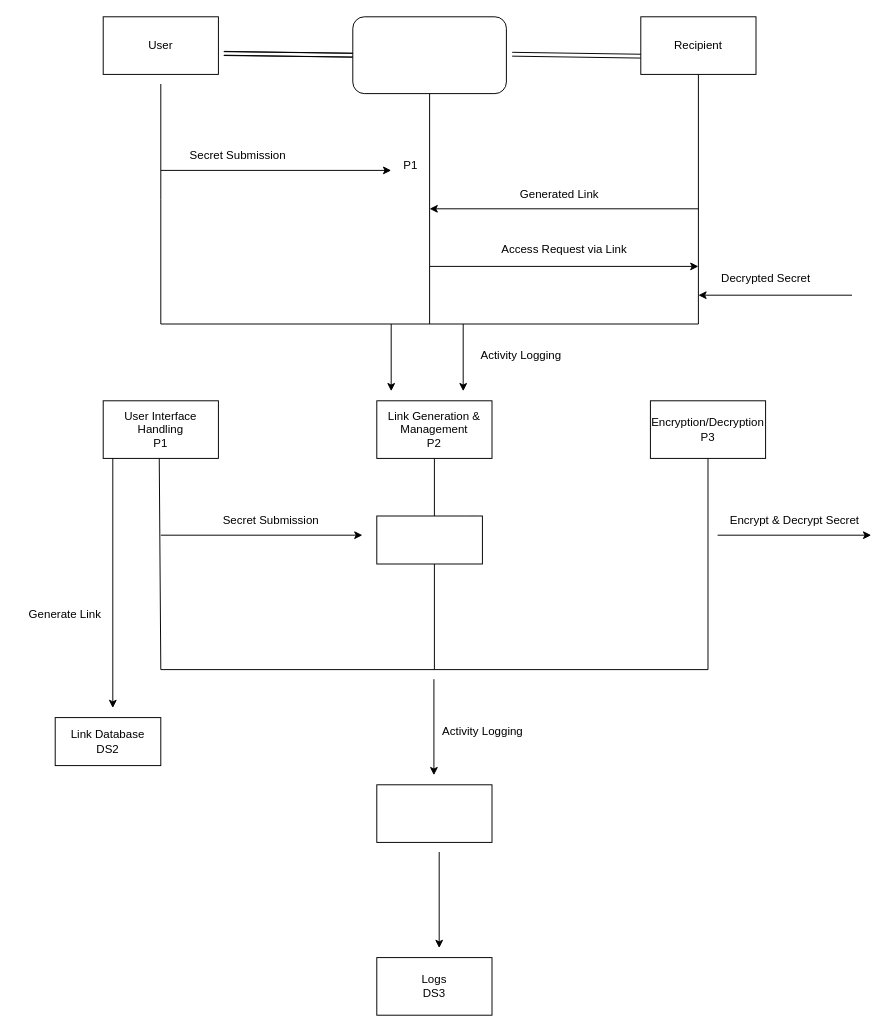
Image size: 896x1032. Some labels were removed from this diagram. Each missing label, with the box of its shape:
Encrypted Secrets Storage DS1: (376, 515, 482, 564)
Monitoring & Logging P4: (376, 784, 492, 842)
SecretSentry Application: (352, 16, 506, 94)
